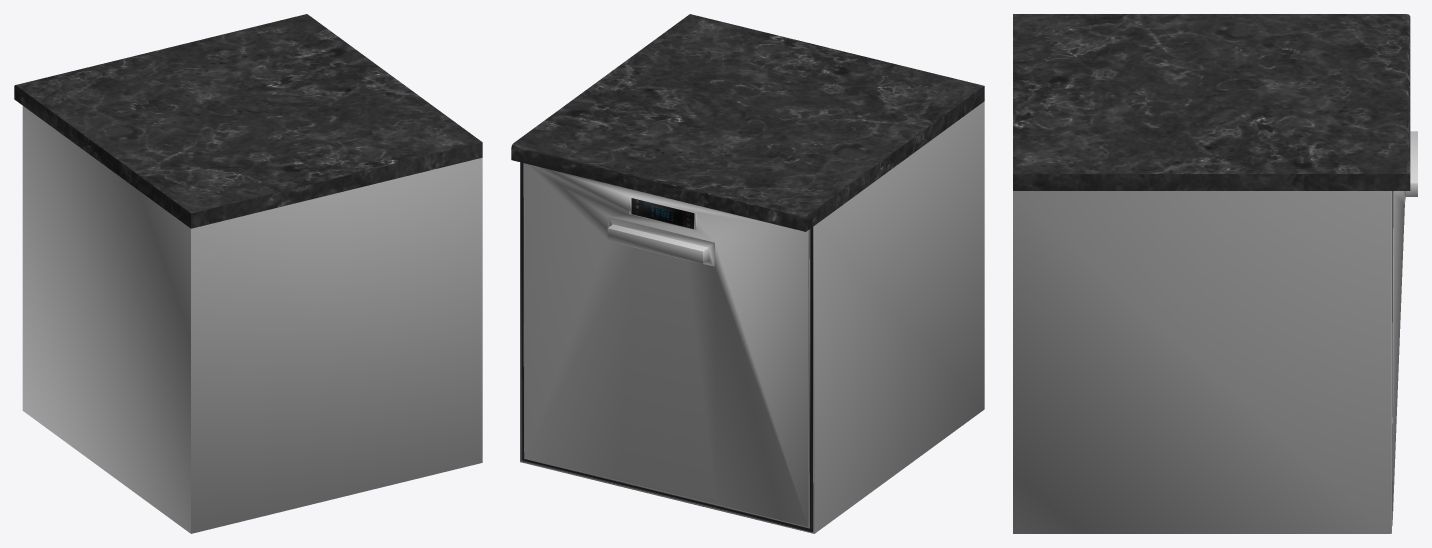
Rendered from counterWasher.fbx.
3 views of the same model, side by side, from view 1: azimuth 30°, elevation 25°; view 2: azimuth 150°, elevation 25°; view 3: azimuth 270°, elevation 25° (orthographic). The views are drawn at different scales.
Visible parts, largest first — view 1: Cube; view 2: Cube; view 3: Cube.
Boxes of the visible parts, <box> form: Cube: <box>14,14,482,533</box>; Cube: <box>511,14,984,533</box>; Cube: <box>1013,14,1417,533</box>.
Bounding box in the file's own units: 200 × 210 × 214.
